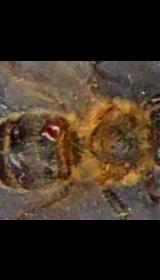varroa_mite: (39, 111, 66, 141)
